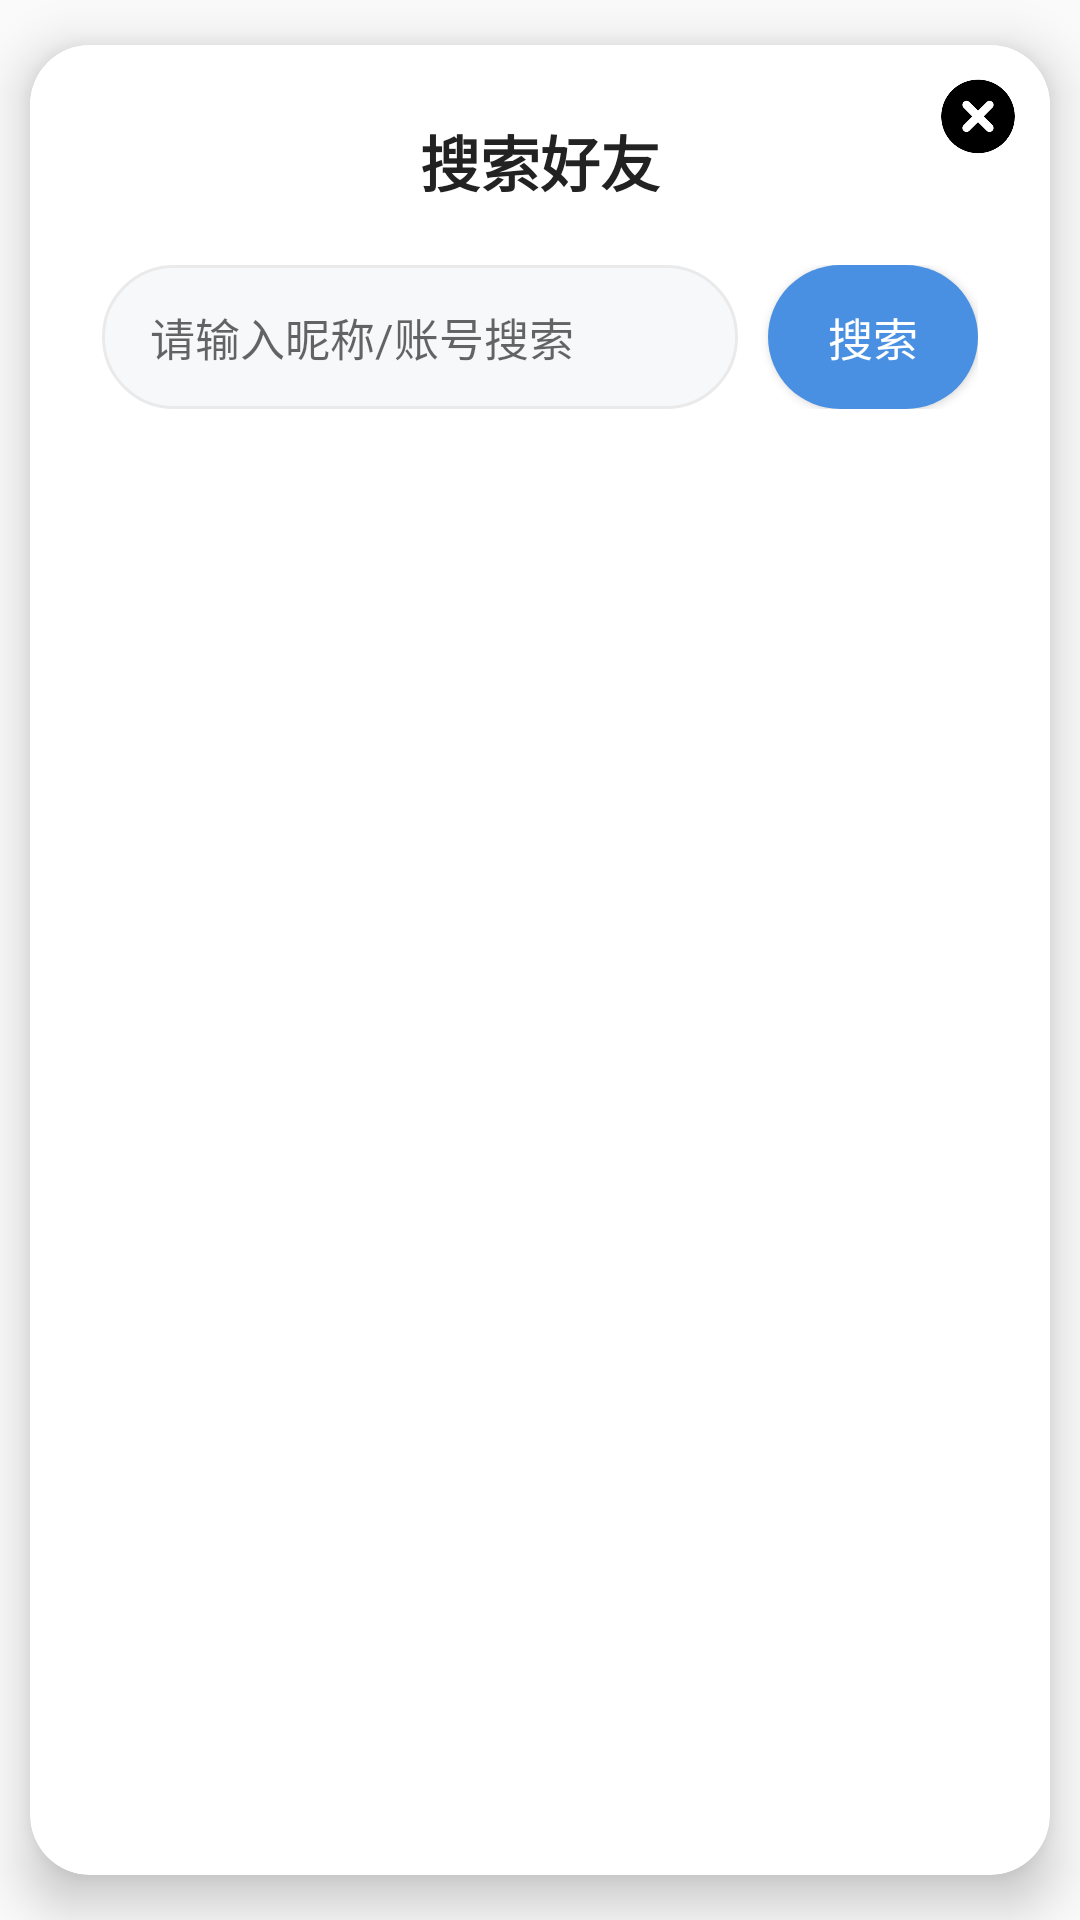

Where icons sit on this 1080 × 1920 app screen, as (x1, y1, x2, y2):
clear: (941, 79, 1015, 153)
